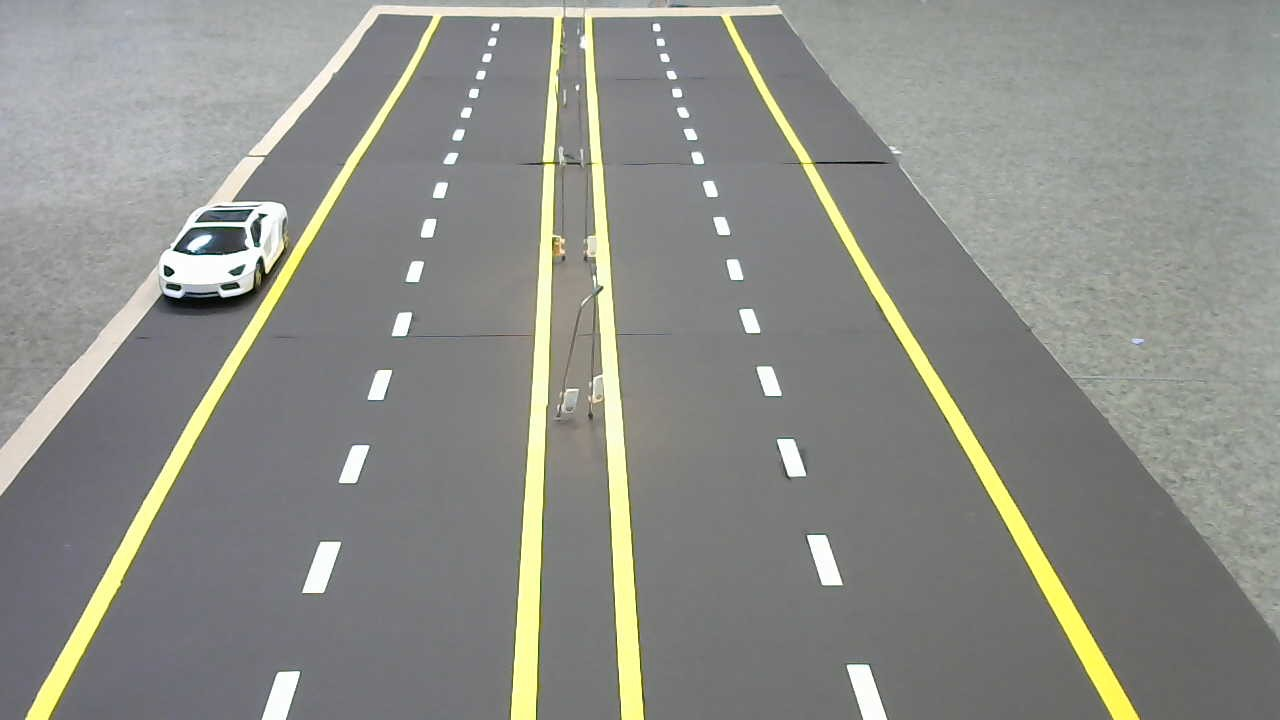front_car: (152, 199, 291, 307)
